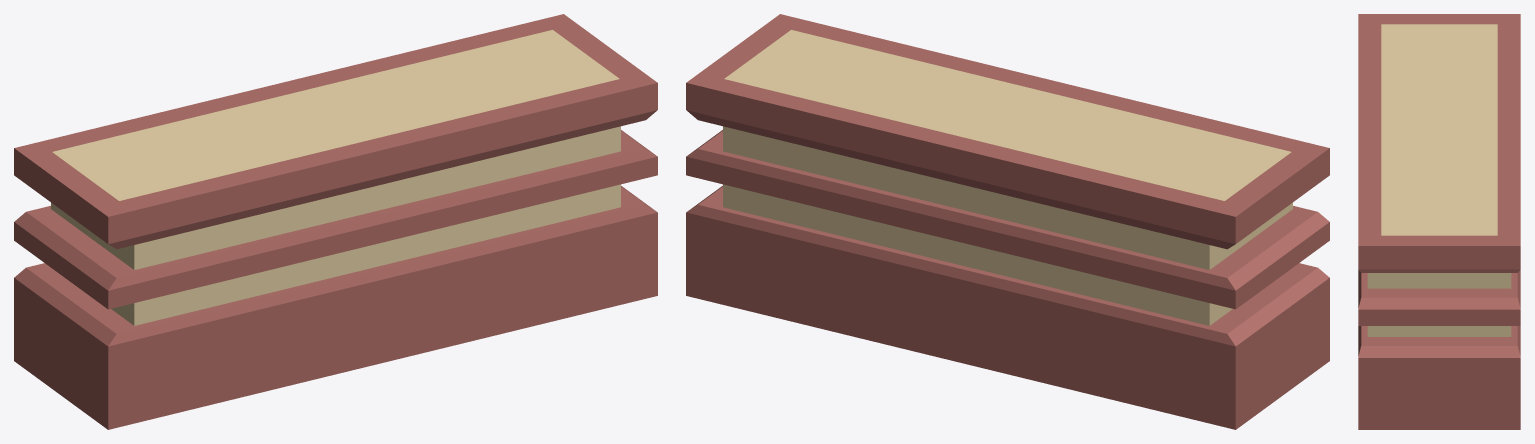
File: Room5Platform.fbx
The picture shows the model from 3 angles, left to right: view 1: azimuth 30°, elevation 25°; view 2: azimuth 150°, elevation 25°; view 3: azimuth 270°, elevation 25°; orthographic projection. The views are drawn at different scales.
Visible parts, largest first — view 1: Cube; view 2: Cube; view 3: Cube.
Part boxes in pixels (<box>): Cube: <box>14,14,657,429</box>; Cube: <box>686,14,1329,429</box>; Cube: <box>1358,14,1520,429</box>.
Bounding box in the file's own units: 4050 × 1500 × 1200.
